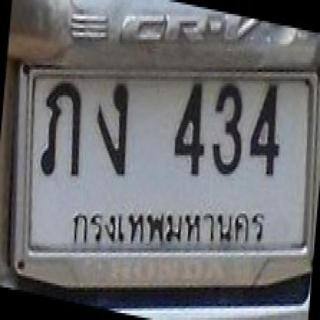A07: (91, 80, 136, 181)
A32: (38, 78, 89, 180)
N03: (209, 81, 247, 181)
N04: (166, 82, 207, 176), (247, 83, 286, 179)
P04: (67, 205, 268, 249)
